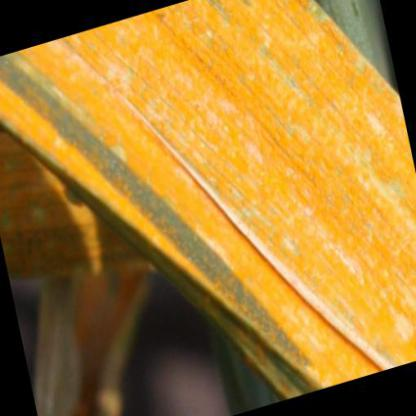Wheat-Yellow-rust: (131, 24, 332, 181), (164, 190, 336, 251), (18, 52, 131, 127), (340, 53, 366, 362), (372, 90, 396, 368), (206, 261, 336, 311), (53, 130, 126, 168), (245, 325, 339, 353), (0, 141, 20, 270), (51, 182, 72, 269), (177, 6, 308, 19), (29, 149, 42, 274), (400, 120, 406, 366), (80, 209, 106, 262), (83, 305, 116, 343), (282, 367, 336, 383), (91, 274, 126, 298), (118, 201, 160, 219), (90, 173, 126, 192), (410, 172, 413, 346), (89, 33, 122, 48), (3, 86, 14, 119), (90, 354, 104, 378), (84, 392, 93, 415), (30, 131, 44, 145), (130, 269, 146, 278)
